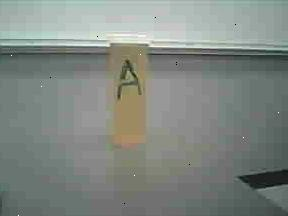Bottle A: (100, 31, 156, 154)
